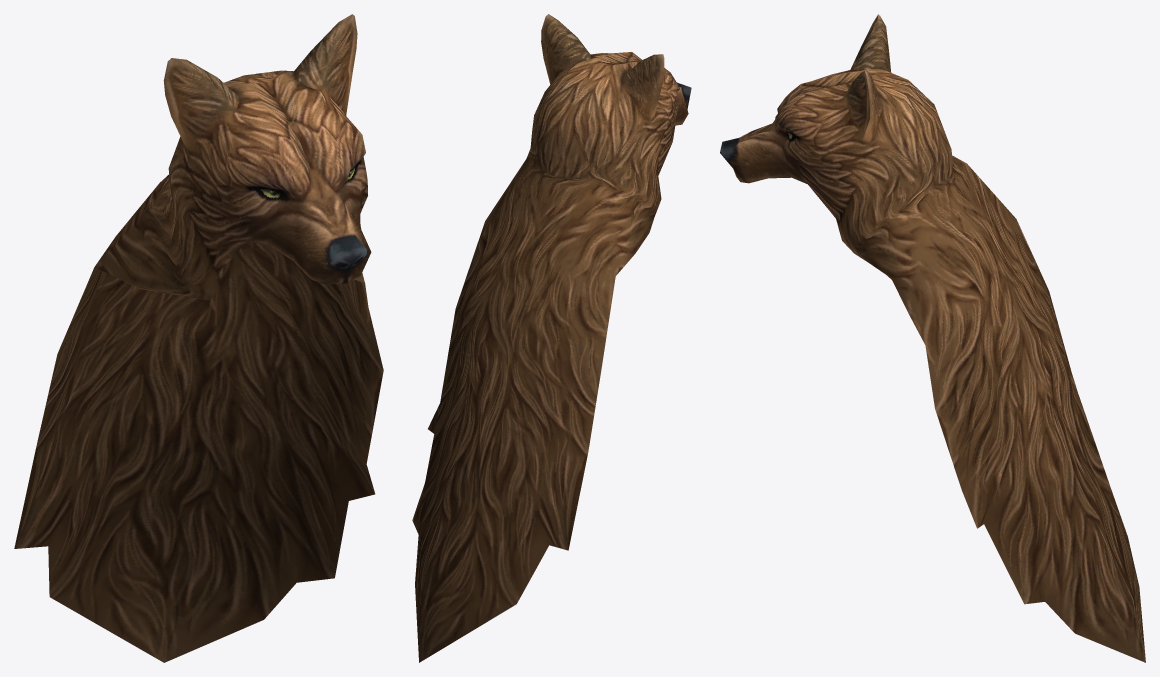
File: helmet-mediuminfantry.glb
The picture shows the model from 3 angles, left to right: view 1: azimuth 30°, elevation 25°; view 2: azimuth 150°, elevation 25°; view 3: azimuth 270°, elevation 25°; orthographic projection. The views are drawn at different scales.
Size of the model in its own units: 0.4116 by 1.09 by 0.7089.
1 material, 1 textured.
